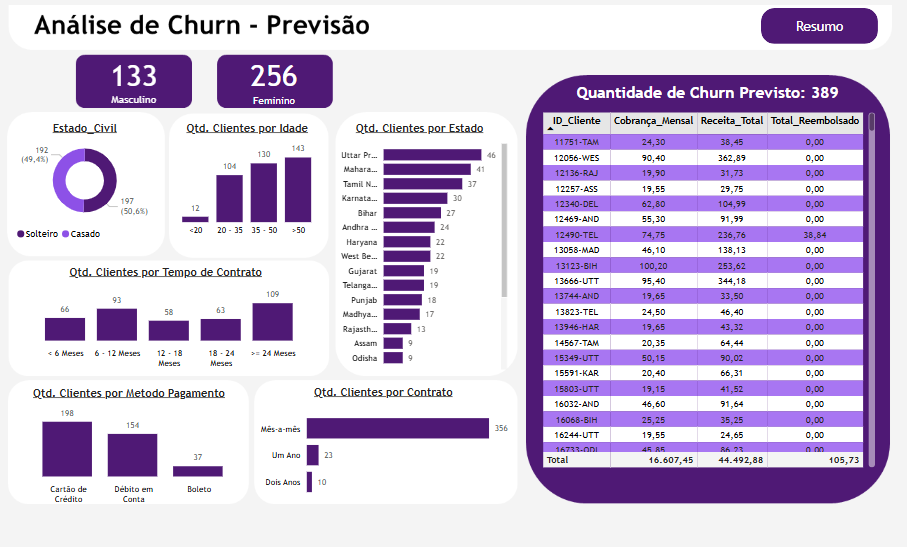

This screenshot's page, from the dashboard's own definition file:
{"tool":"powerbi","page":{"name":"Previsão_Churn","canvas":[1280,720],"ordinal":2},"visuals":[{"type":"card","fields":{"Values":["Medidas.Previsão Churn com Título"]},"box":[751.7,105,510,40],"z":0},{"type":"donutChart","title":"Estado_Civil","fields":{"Y":["CountNonNull(Predictions_ETL.ID_Cliente)"],"Category":["Predictions_ETL.Casado"]},"box":[13.8,166.2,205,180],"z":1000},{"type":"clusteredColumnChart","title":"Qtd. Clientes por Idade","fields":{"Category":["Mapeamento de Idade.Idade_Group"],"Y":["CountNonNull(Predictions_ETL.ID_Cliente)"]},"box":[231.2,166.2,235,172.5],"z":2000},{"type":"clusteredColumnChart","title":"Qtd. Clientes por Tempo de Contrato","fields":{"Category":["Mapeamento de tempo de uso mensal.Contrato_Tempo_Group"],"Y":["CountNonNull(Predictions_ETL.ID_Cliente)"]},"box":[13.8,371.2,436.2,155],"z":3000},{"type":"clusteredColumnChart","title":"Qtd. Clientes por Metodo Pagamento","fields":{"Category":["Predictions_ETL.Metodo_Pagamento"],"Y":["CountNonNull(Predictions_ETL.ID_Cliente)"]},"box":[0,543.8,360,176.2],"z":4000},{"type":"clusteredBarChart","title":"Qtd. Clientes por Contrato","fields":{"Category":["Predictions_ETL.Contrato"],"Y":["CountNonNull(Predictions_ETL.ID_Cliente)"]},"box":[360,543.3,366.7,175],"z":5000},{"type":"clusteredBarChart","title":"Qtd. Clientes por Estado","fields":{"Category":["Predictions_ETL.Estado"],"Y":["CountNonNull(Predictions_ETL.ID_Cliente)"]},"box":[466.2,166.2,258.8,360],"z":6000},{"type":"card","fields":{"Values":["Medidas.Previsão Churn"]},"box":[293.4,65.2,188.5,83.6],"z":7000},{"type":"actionButton","box":[1082.9,4.3,167.1,51.4],"z":8000},{"type":"tableEx","fields":{"Values":["Predictions_ETL.ID_Cliente","Sum(Predictions_ETL.Valor_Mensal)","Sum(Predictions_ETL.Receita_Total)","Sum(Predictions_ETL.Total_Reembolsado)"]},"box":[765,148.3,485,516.7],"z":9000},{"type":"card","fields":{"Values":["Medidas.Previsão Churn"]},"box":[72.3,60.9,228.2,90.7],"z":10000}]}

Visuals, with their boxes on the page's 1280x720 design canvas (x1, y1, x2, y2). These are canvas units, not pixel positions in the 907x547 screenshot, which may show the page scaled, cropped or inside an application window:
card - Medidas.Previsão Churn com Título: Rect(752, 105, 1262, 145)
"Estado_Civil" donutChart: Rect(14, 166, 219, 346)
"Qtd. Clientes por Idade" clusteredColumnChart: Rect(231, 166, 466, 339)
"Qtd. Clientes por Tempo de Contrato" clusteredColumnChart: Rect(14, 371, 450, 526)
"Qtd. Clientes por Metodo Pagamento" clusteredColumnChart: Rect(0, 544, 360, 720)
"Qtd. Clientes por Contrato" clusteredBarChart: Rect(360, 543, 727, 718)
"Qtd. Clientes por Estado" clusteredBarChart: Rect(466, 166, 725, 526)
card - Medidas.Previsão Churn: Rect(293, 65, 482, 149)
actionButton: Rect(1083, 4, 1250, 56)
tableEx - Predictions_ETL.ID_Cliente x Sum(Predictions_ETL.Valor_Mensal): Rect(765, 148, 1250, 665)
card - Medidas.Previsão Churn: Rect(72, 61, 300, 152)
